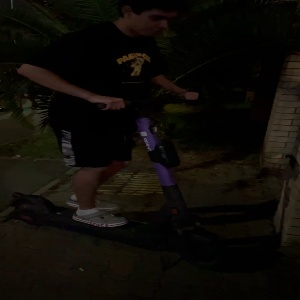human on a scooter: (10, 1, 232, 270)
